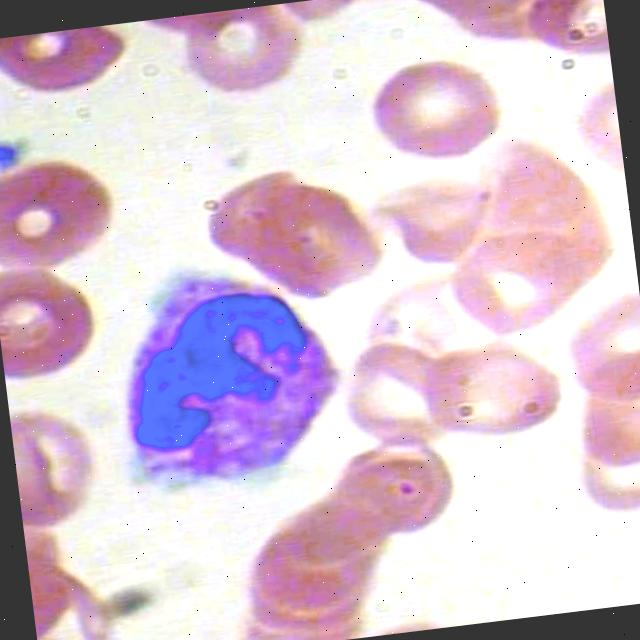Platelets: (0, 131, 34, 175)
RBC: (192, 150, 390, 313), (415, 328, 572, 454), (352, 46, 507, 172), (434, 222, 591, 346), (0, 144, 128, 280), (320, 424, 455, 544), (8, 396, 114, 530), (0, 253, 106, 385), (178, 0, 310, 99), (24, 526, 122, 640), (550, 286, 640, 402), (559, 360, 640, 476), (509, 0, 609, 63)
WBC: (84, 229, 357, 507)
